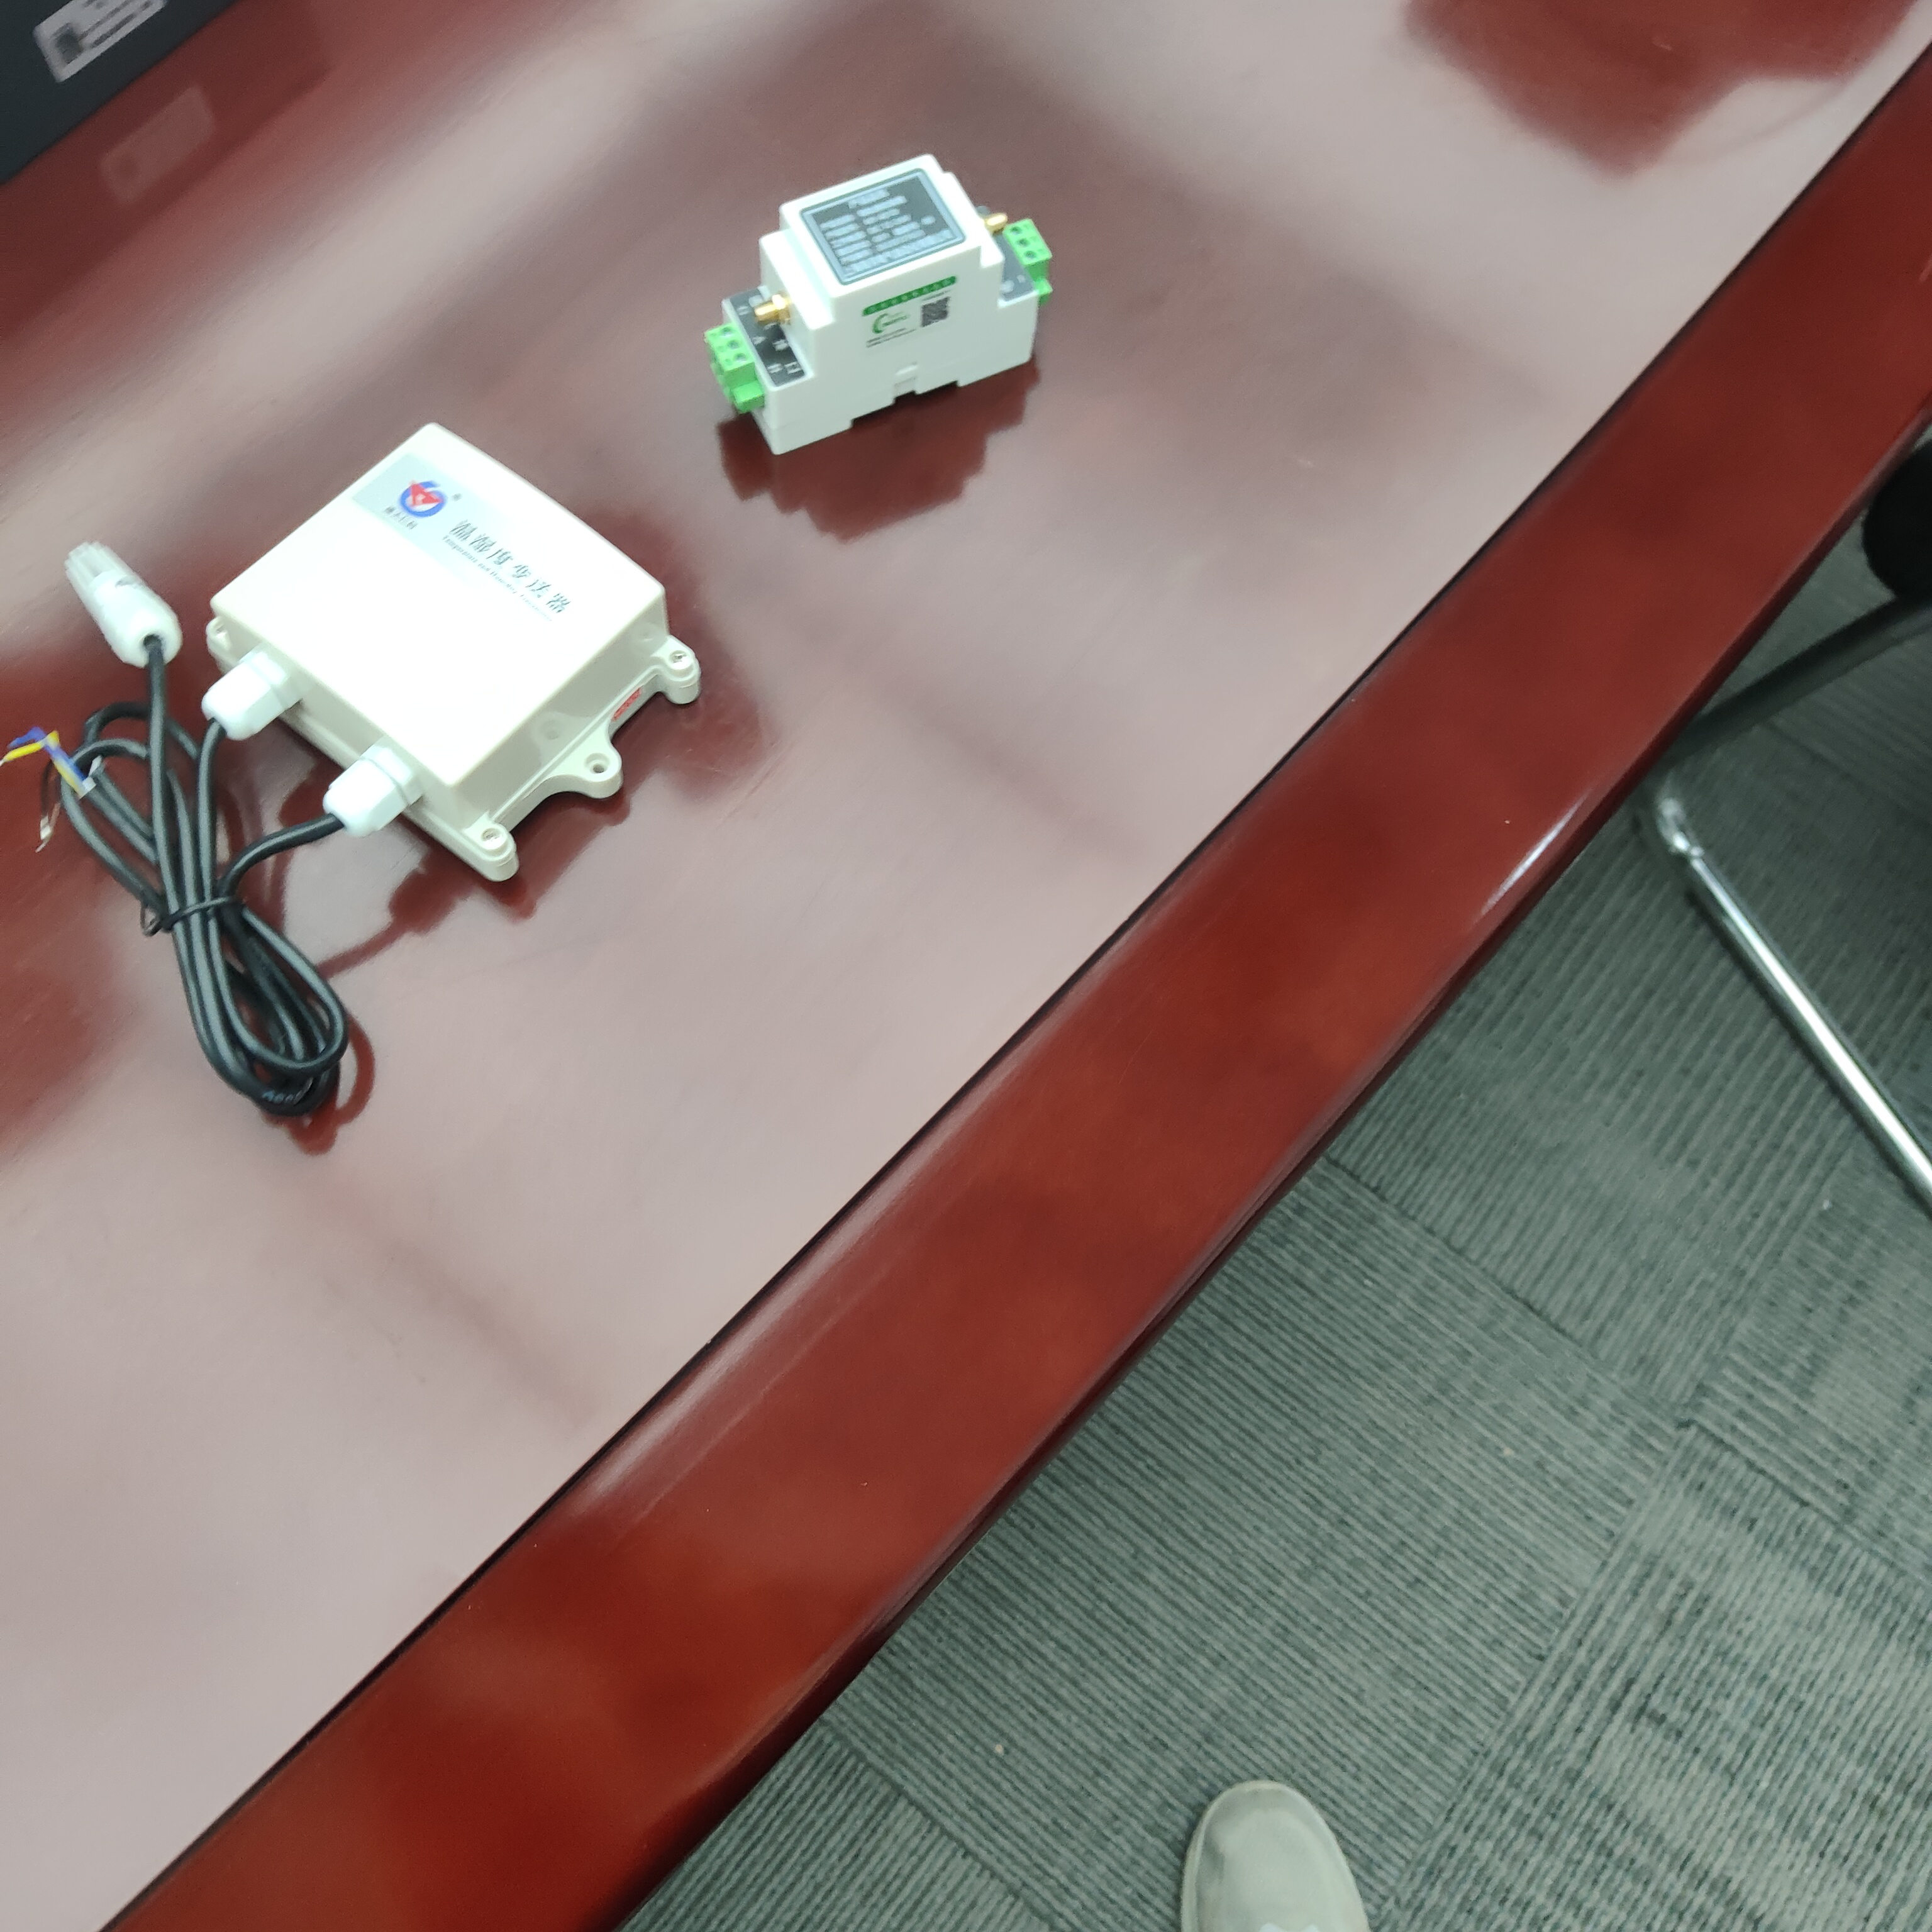dgjs: (695, 129, 1072, 476)
wsdbsq: (145, 414, 752, 918)
